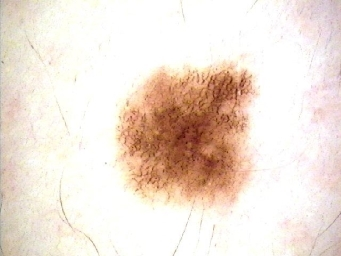nevus: (113, 62, 261, 211)
